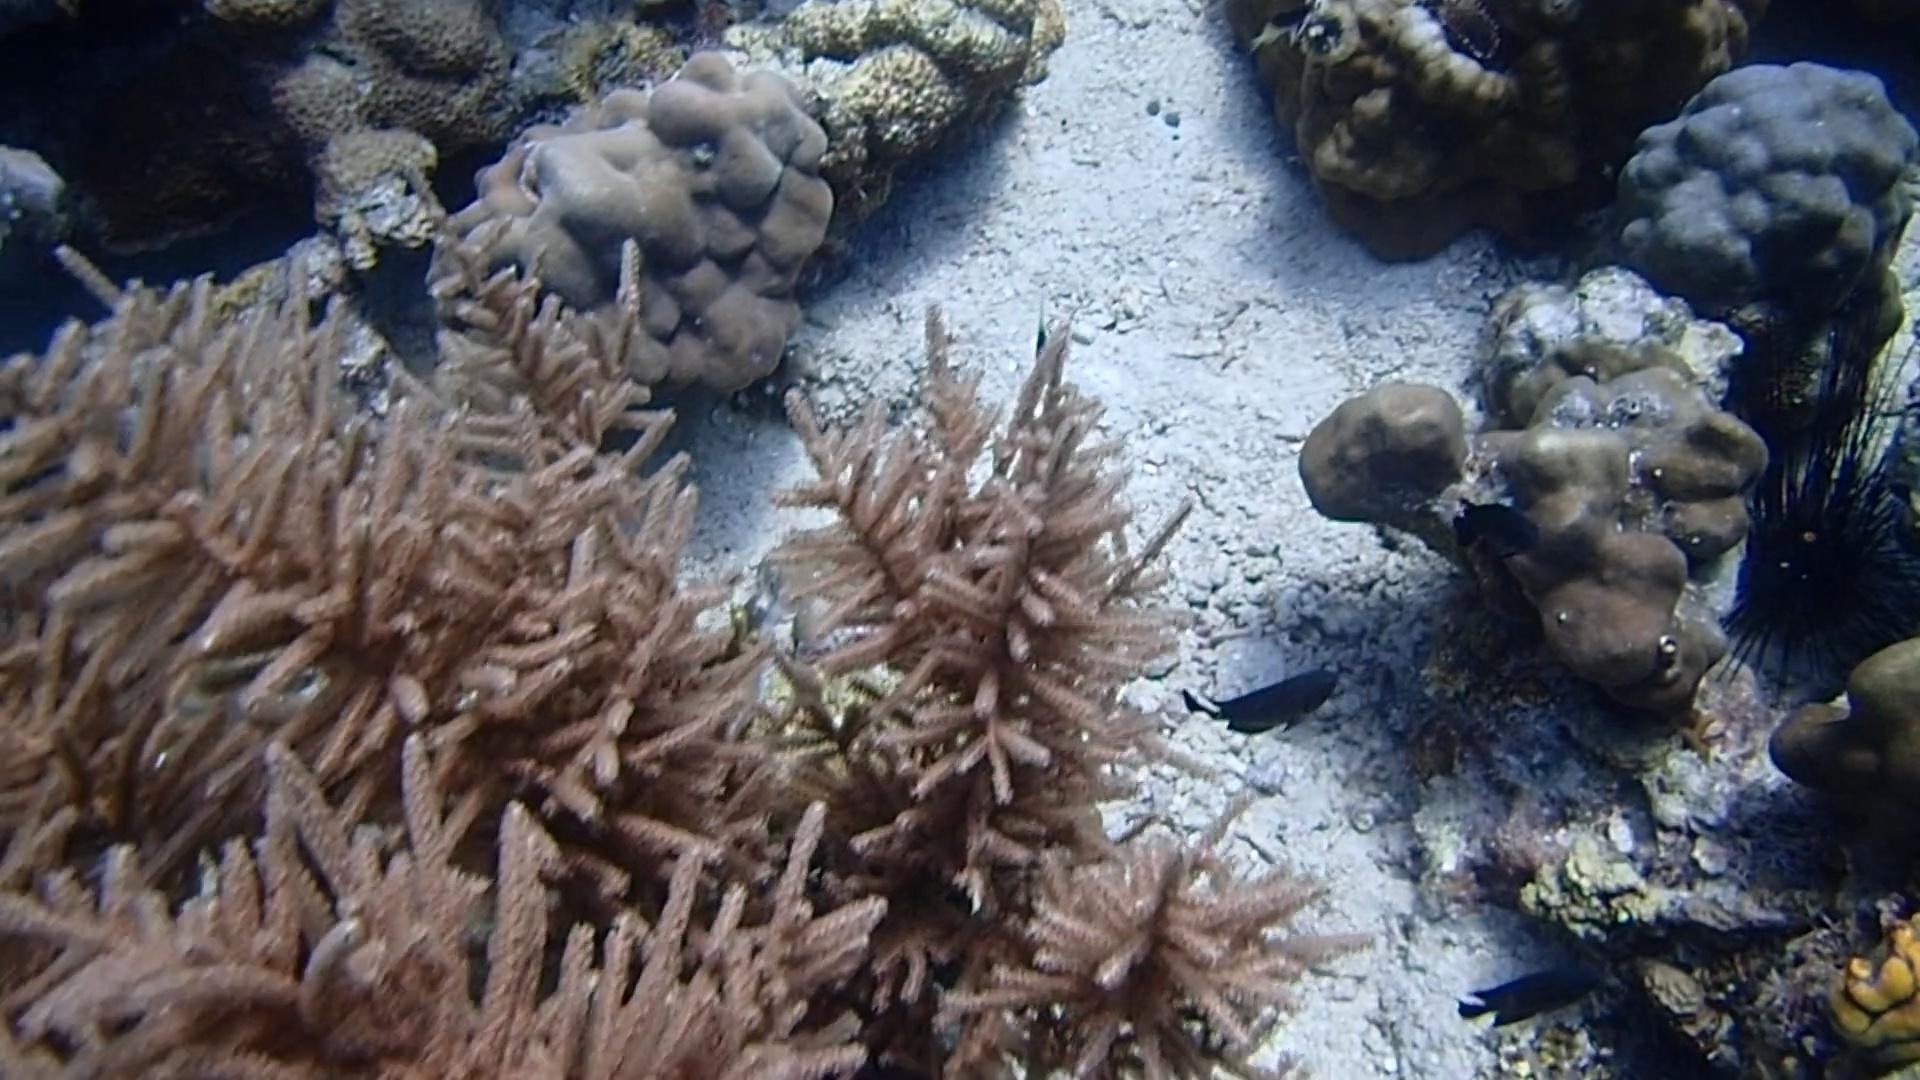Dark Fish: (1445, 956, 1609, 1036), (1175, 671, 1357, 738), (1444, 496, 1547, 564)
Yellow Tail: (1015, 297, 1065, 376), (1246, 5, 1315, 53)
